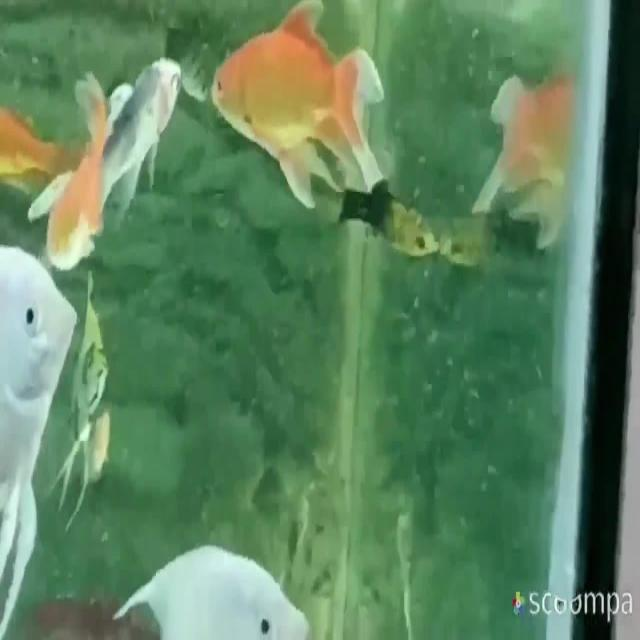GoldFish: (203, 0, 393, 232)
